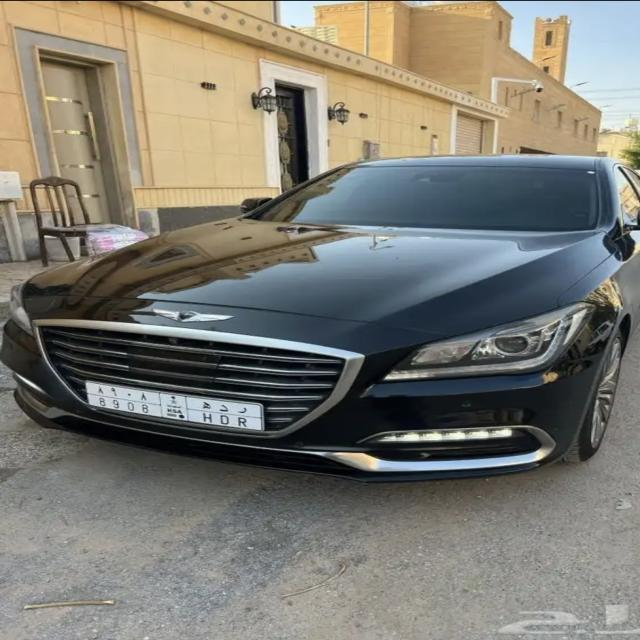license_plate: (85, 381, 264, 433)
